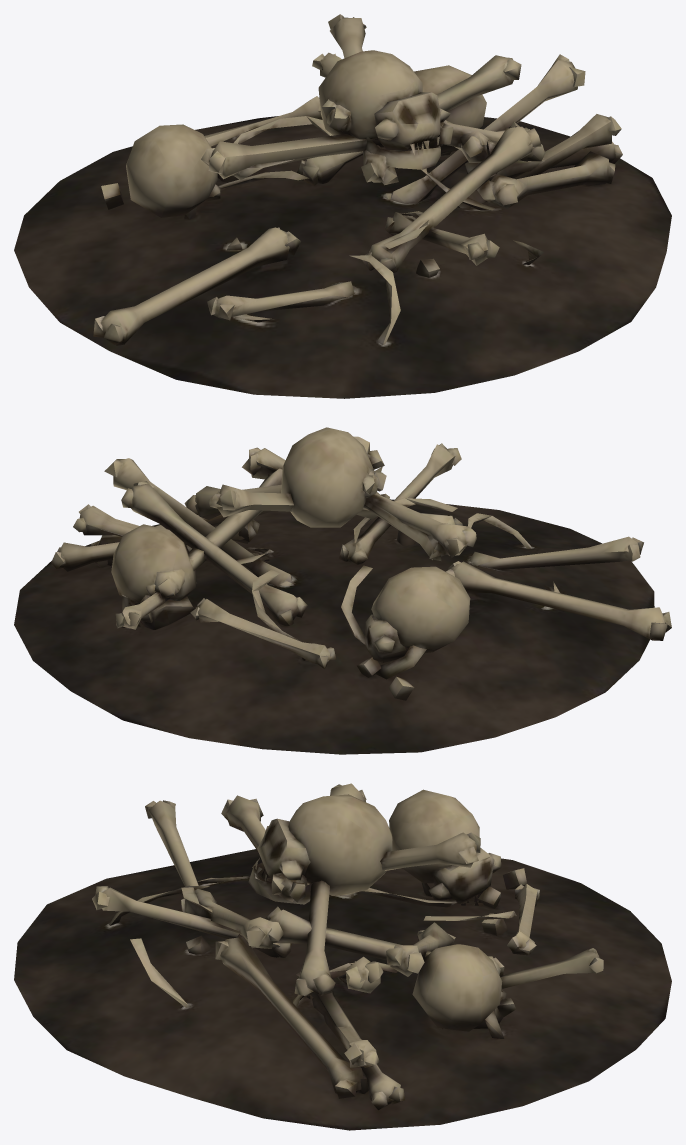
The model's file is bones_pile.glb.
3 renders of one model, top to bottom at view 1: azimuth 30°, elevation 25°; view 2: azimuth 150°, elevation 25°; view 3: azimuth 270°, elevation 25°, orthographic. The views are drawn at different scales.
Parts seen in each view (by area): view 1: bones_pile; view 2: bones_pile; view 3: bones_pile.
Boxes of the visible parts, left/top/right/bottom form: bones_pile: left=14, top=14, right=671, bottom=398; bones_pile: left=14, top=427, right=671, bottom=754; bones_pile: left=14, top=783, right=671, bottom=1130.
Bounding box in the file's own units: 1.3 × 0.4169 × 1.24.
Materials: 1 (1 with a texture image).
